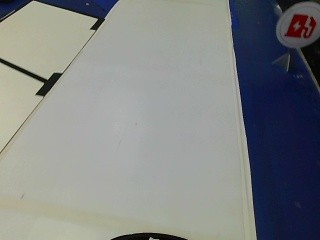battery: (271, 4, 318, 48)
